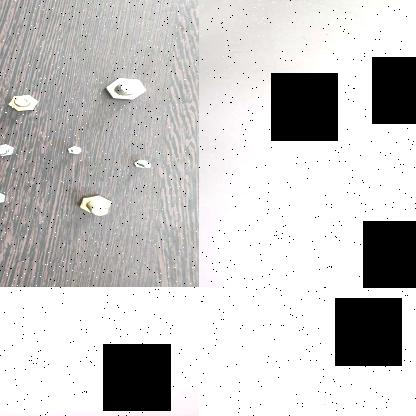Bolts: (101, 75, 149, 103), (73, 190, 114, 216), (4, 92, 44, 112), (122, 155, 156, 173), (0, 185, 13, 209), (63, 144, 86, 156), (0, 143, 17, 159)
